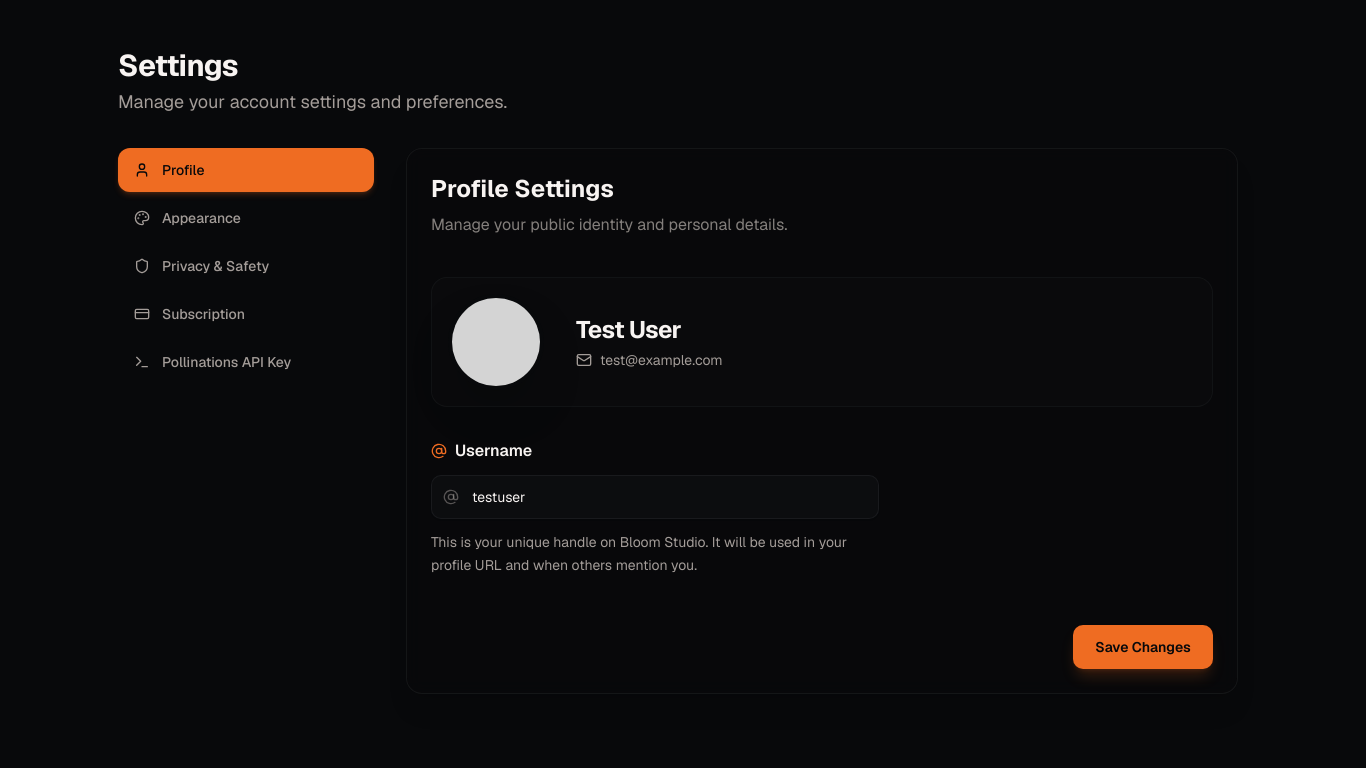
Test: SettingsPage › switches to Appearance view
Click the tab "Appearance" at (246, 218), box [118, 196, 374, 240]
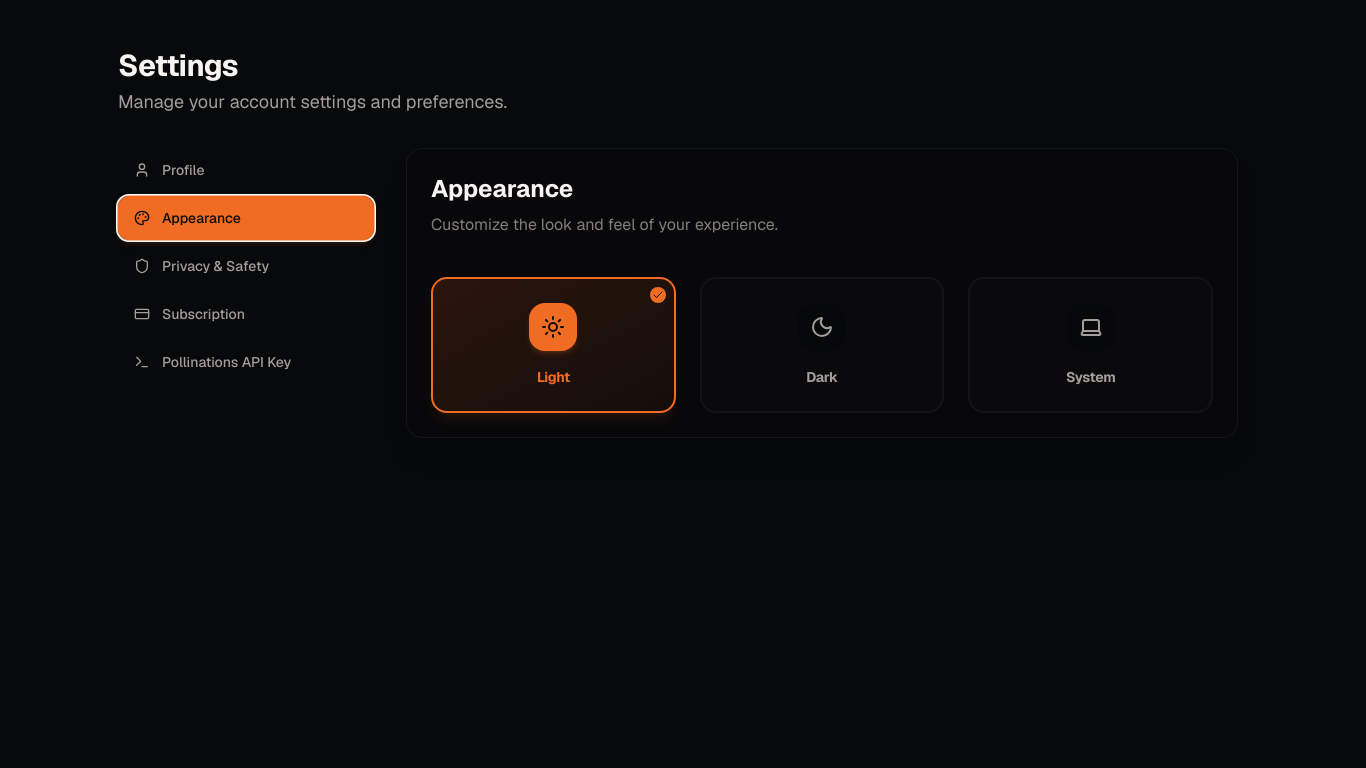
Expected: the text "Customize the look and feel of your experience." is shown, [431, 214, 778, 235]
Expected: the text "Dark" is shown, [806, 367, 838, 387]
